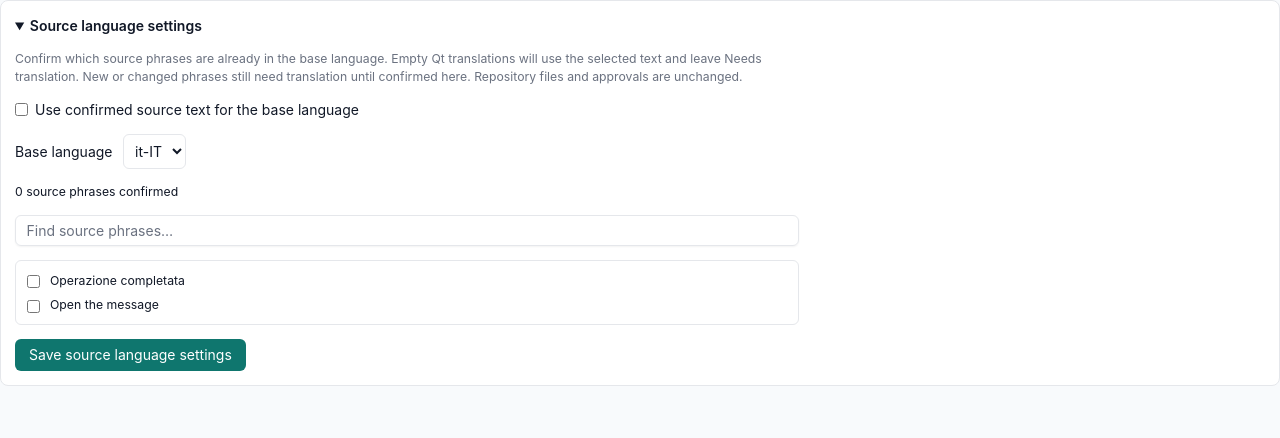
Test case: keeps the selection when an optimistic save fails and never reports success
This screenshot has width=1280, height=438.
What coordinates should you click on to do the following:
click the checkbox labelled "Operazione completata"
I would click on:
 (33, 282)
Its box is [26, 275, 40, 288].
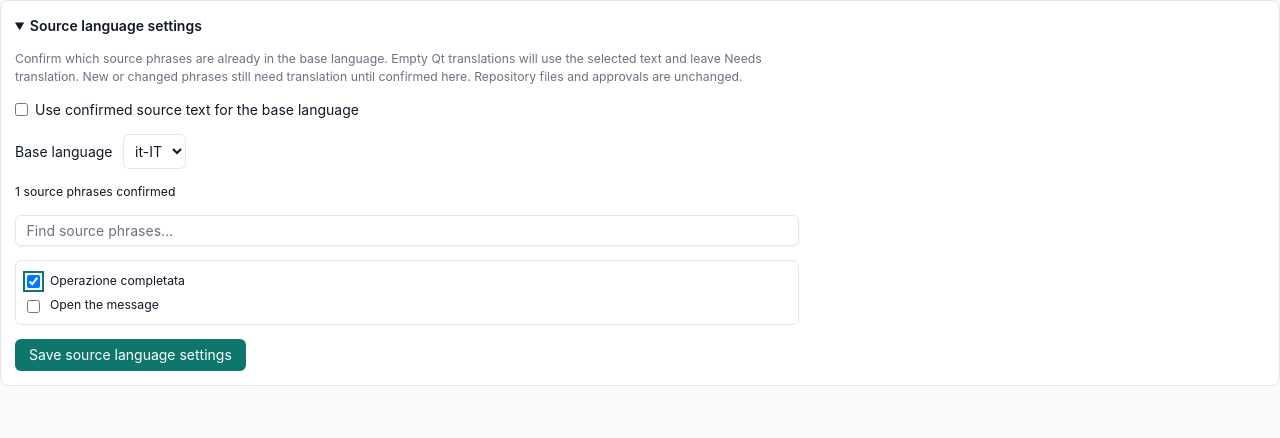
What coordinates should you click on to do the following:
click the button "Save source language settings"
I would click on:
 (130, 355)
Its box is [15, 339, 246, 370].
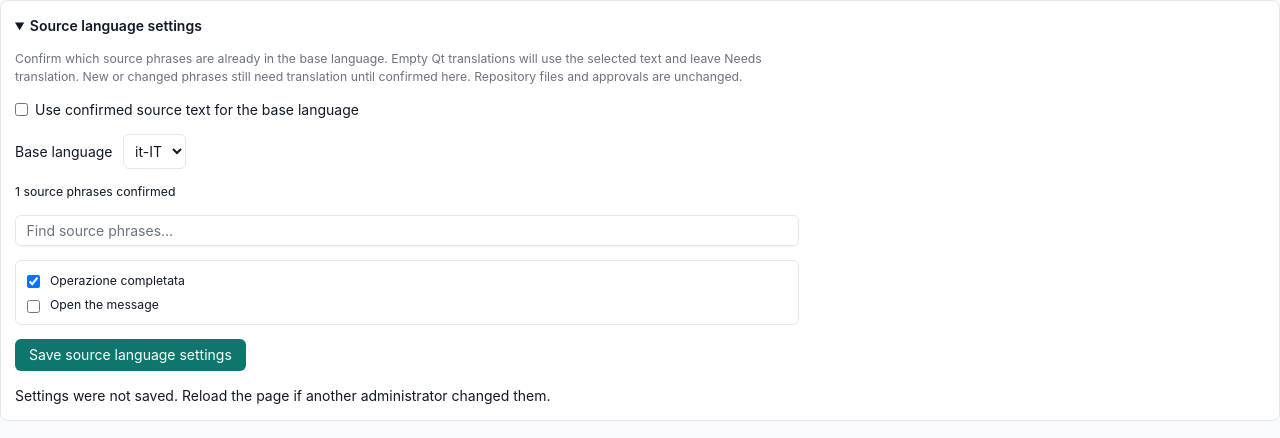
Check: the checkbox labelled "Operazione completata" is checked, box [26, 275, 40, 288]
Check: the message shows "Settings were not saved", box [15, 386, 550, 404]
